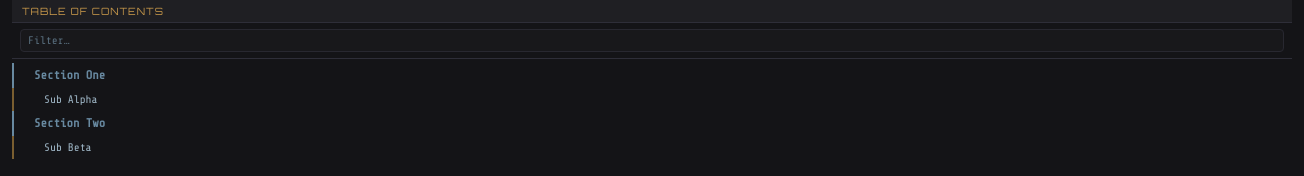
Test case: TocPanel › shows "No matches" when filter matches nothing
Type "zzznomatch" into the field with placeholder "Filter…" at (652, 40), box top-left (20, 29), bottom-right (1284, 52)
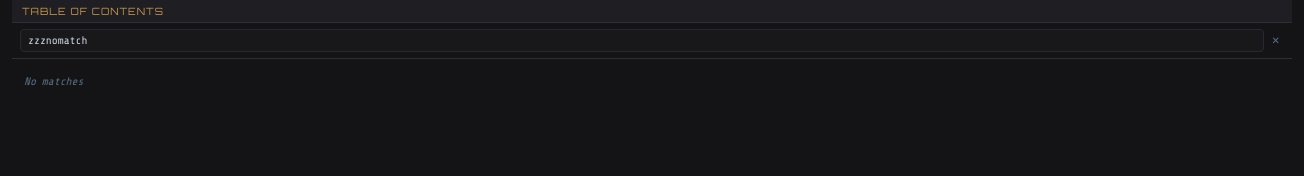
Expected: the text "No matches" is shown, top-left (24, 75), bottom-right (83, 88)
